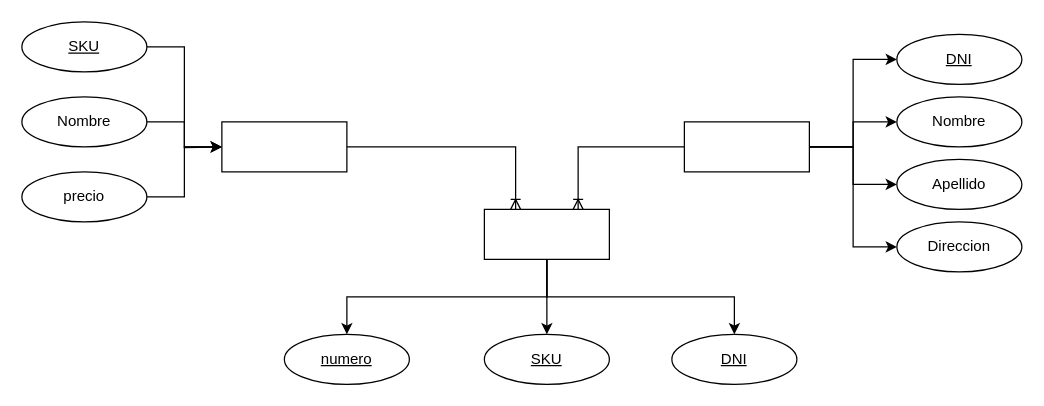
Image size: 1044x406. Some labels were removed from this diagram. Each missing label, with the centre of its shape:
"Clientes" belongs at [746,146].
"Documento Compra" belongs at [546,233].
"Productos" belongs at [284,146].
